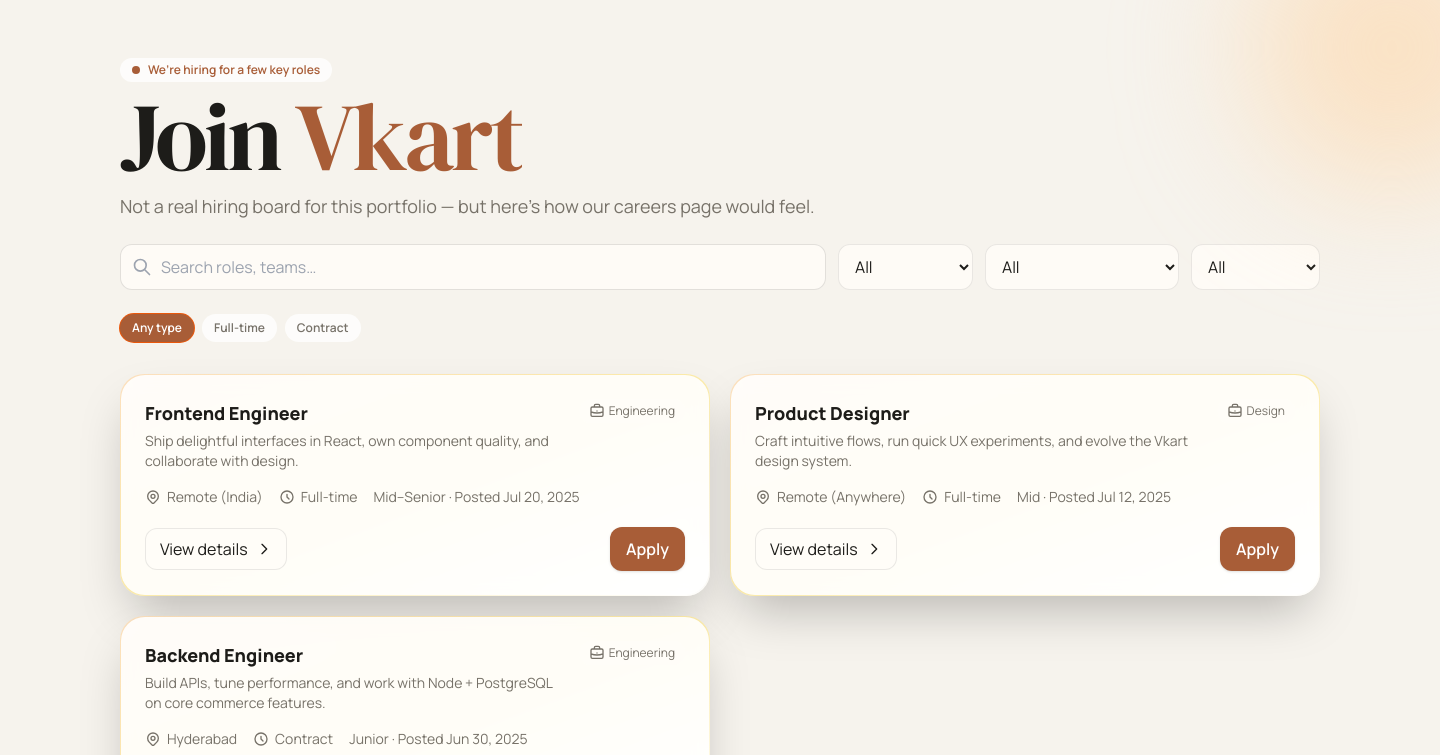
Careers Component › filters roles by search text
Type "backend" into the field with placeholder "Search roles, teams…" at (473, 267), box [120,244,826,290]
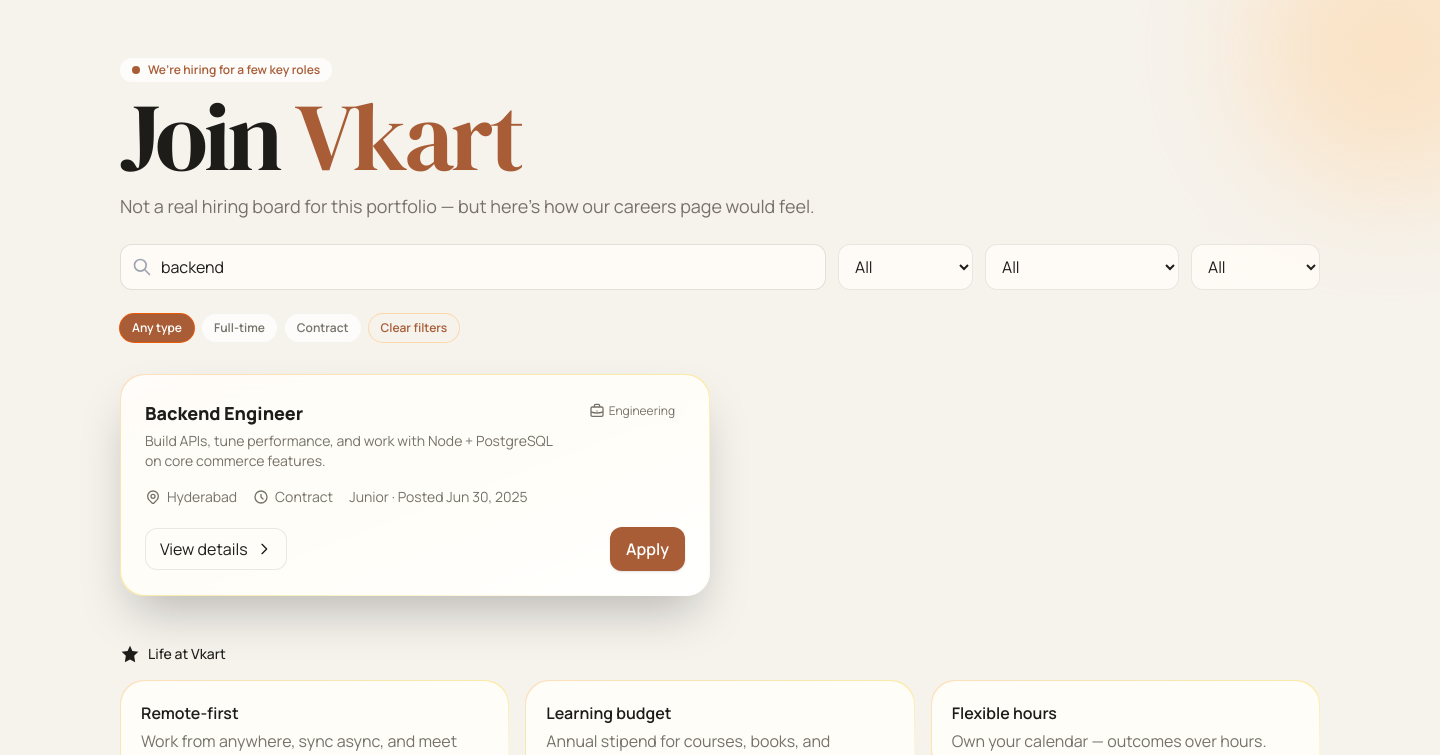
Expected: the heading "Backend Engineer" is shown, [145,401,303,425]
Expected: the heading "Frontend Engineer" is gone
